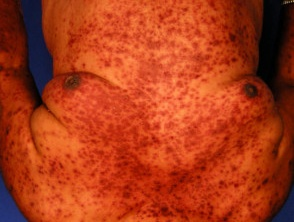SJS-TEN: (0, 0, 283, 222)
